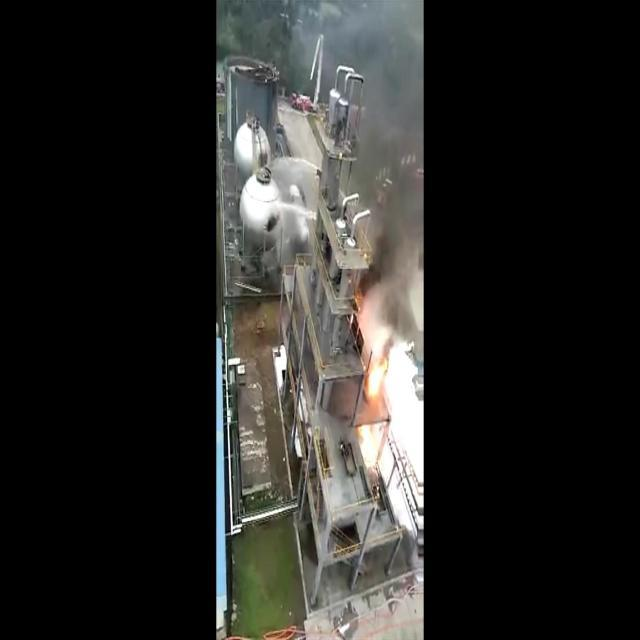Fire: (366, 356, 389, 403)
Smoke: (287, 0, 423, 335)
